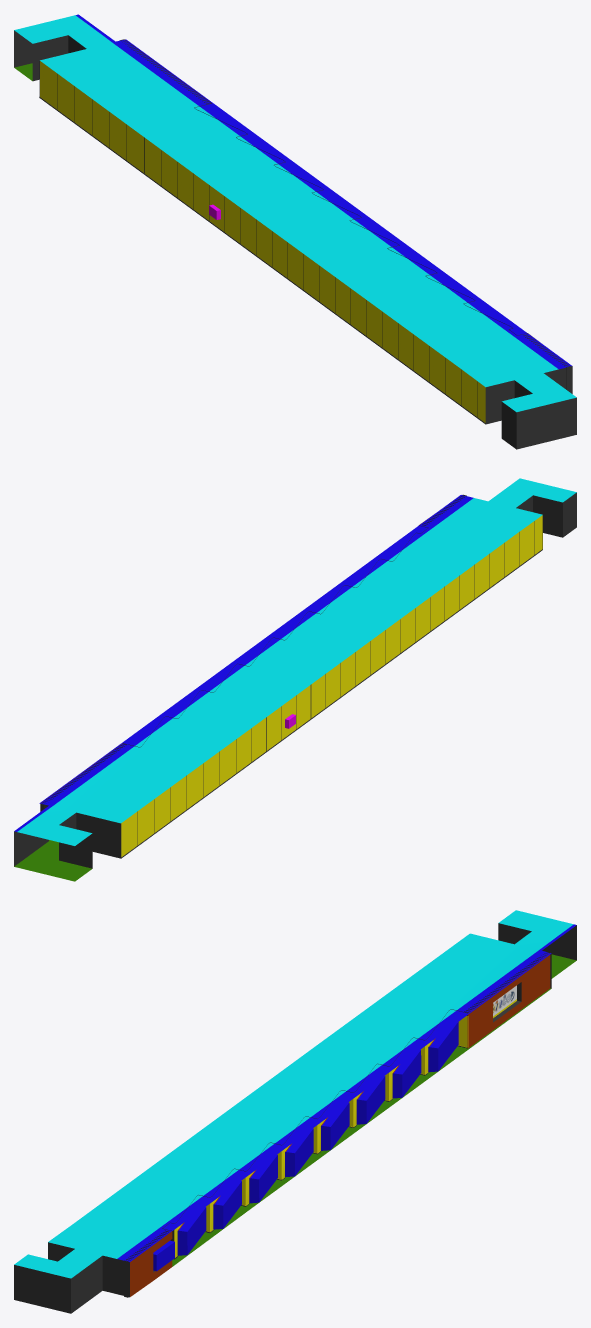
File: SalaMejorClubMundo.fbx
3 renders of one model, top to bottom at view 1: azimuth 30°, elevation 25°; view 2: azimuth 150°, elevation 25°; view 3: azimuth 330°, elevation 25°, orthographic. The views are drawn at different scales.
Visible parts, largest first — view 1: SalaMejorClubMundo; view 2: SalaMejorClubMundo; view 3: SalaMejorClubMundo.
Part boxes in pixels (x1,y1,x2,y2): SalaMejorClubMundo: (14,14,576,449); SalaMejorClubMundo: (14,478,576,881); SalaMejorClubMundo: (14,910,576,1313).
Size of the model in its own units: 928 by 360 by 8837.
